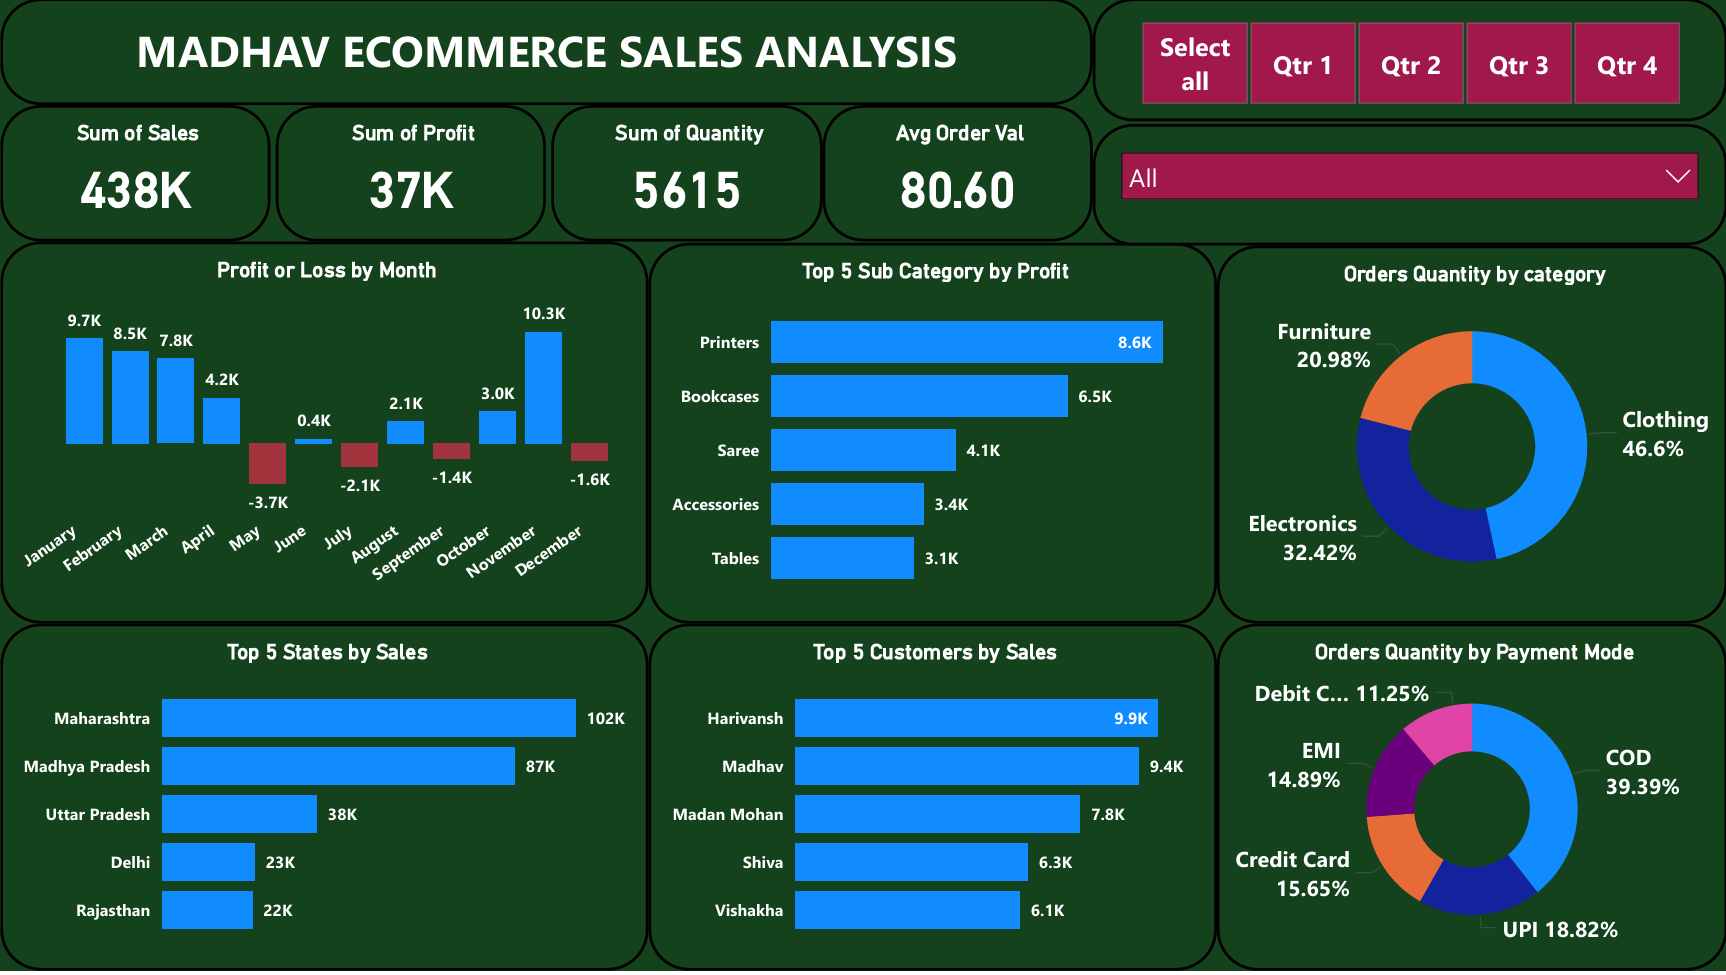

The page's visual inventory and layout, read from the dashboard file:
{"tool":"powerbi","page":{"name":"Page 1","canvas":[1280,720],"ordinal":0},"visuals":[{"type":"textbox","box":[0,0,808.8,79.4],"z":0},{"type":"card","title":"Sum of Sales","fields":{"Values":["Details.Amount"]},"box":[0,79.4,200,100.2],"z":1000},{"type":"card","title":"Sum of Profit","fields":{"Values":["Details.Profit"]},"box":[204.1,79.4,200.3,100.2],"z":2000},{"type":"card","title":"Sum of Quantity","fields":{"Values":["Details.Quantity"]},"box":[408.2,79.4,200.3,100.2],"z":3000},{"type":"card","title":"Avg Order Val","fields":{"Values":["Details.AOV"]},"box":[608.5,79.4,200.3,100.2],"z":4000},{"type":"columnChart","title":"Profit or Loss by Month","fields":{"Category":["Orders.Order Date.Variation.Date Hierarchy.Month"],"Y":["Details.Profit"]},"box":[0,179.5,480,283.5],"z":5000},{"type":"barChart","title":"Top 5 Sub Category by Profit","fields":{"Category":["Details.Sub-Category"],"Y":["Details.Profit"]},"box":[480,181.4,421.4,281.6],"z":6000},{"type":"donutChart","title":"Orders Quantity by category","fields":{"Category":["Details.Category"],"Y":["Details.Quantity"]},"box":[901.4,183.3,378,279.7],"z":7000},{"type":"donutChart","title":"Orders Quantity by  Payment Mode","fields":{"Y":["Details.Quantity"],"Category":["Details.PaymentMode"]},"box":[901.4,463,378,257],"z":8000},{"type":"barChart","title":"Top 5 States by Sales","fields":{"Y":["Details.Amount"],"Category":["Orders.State"]},"box":[0,463,480,257],"z":9000},{"type":"barChart","title":"Top 5 Customers by Sales","fields":{"Y":["Details.Amount"],"Category":["Orders.CustomerName"]},"box":[480,463,421.4,257],"z":10000},{"type":"slicer","fields":{"Values":["Orders.Order Date.Variation.Date Hierarchy.Quarter"]},"box":[808.8,0,470.6,90.7],"z":11000},{"type":"slicer","fields":{"Values":["Orders.State"]},"box":[808.8,92.6,470.6,90.7],"z":12000}]}

Visuals, with their boxes in screenshot pixels (x1, y1, x2, y2), scaled from the page's 1280x720 canvas onto the 1726x975 screenshot:
textbox: BBox(0, 0, 1091, 108)
"Sum of Sales" card: BBox(0, 108, 270, 243)
"Sum of Profit" card: BBox(275, 108, 545, 243)
"Sum of Quantity" card: BBox(550, 108, 821, 243)
"Avg Order Val" card: BBox(821, 108, 1091, 243)
"Profit or Loss by Month" columnChart: BBox(0, 243, 647, 627)
"Top 5 Sub Category by Profit" barChart: BBox(647, 246, 1215, 627)
"Orders Quantity by category" donutChart: BBox(1215, 248, 1725, 627)
"Orders Quantity by  Payment Mode" donutChart: BBox(1215, 627, 1725, 974)
"Top 5 States by Sales" barChart: BBox(0, 627, 647, 974)
"Top 5 Customers by Sales" barChart: BBox(647, 627, 1215, 974)
slicer - Orders.Order Date.Variation.Date Hierarchy.Quarter: BBox(1091, 0, 1725, 123)
slicer - Orders.State: BBox(1091, 125, 1725, 248)
